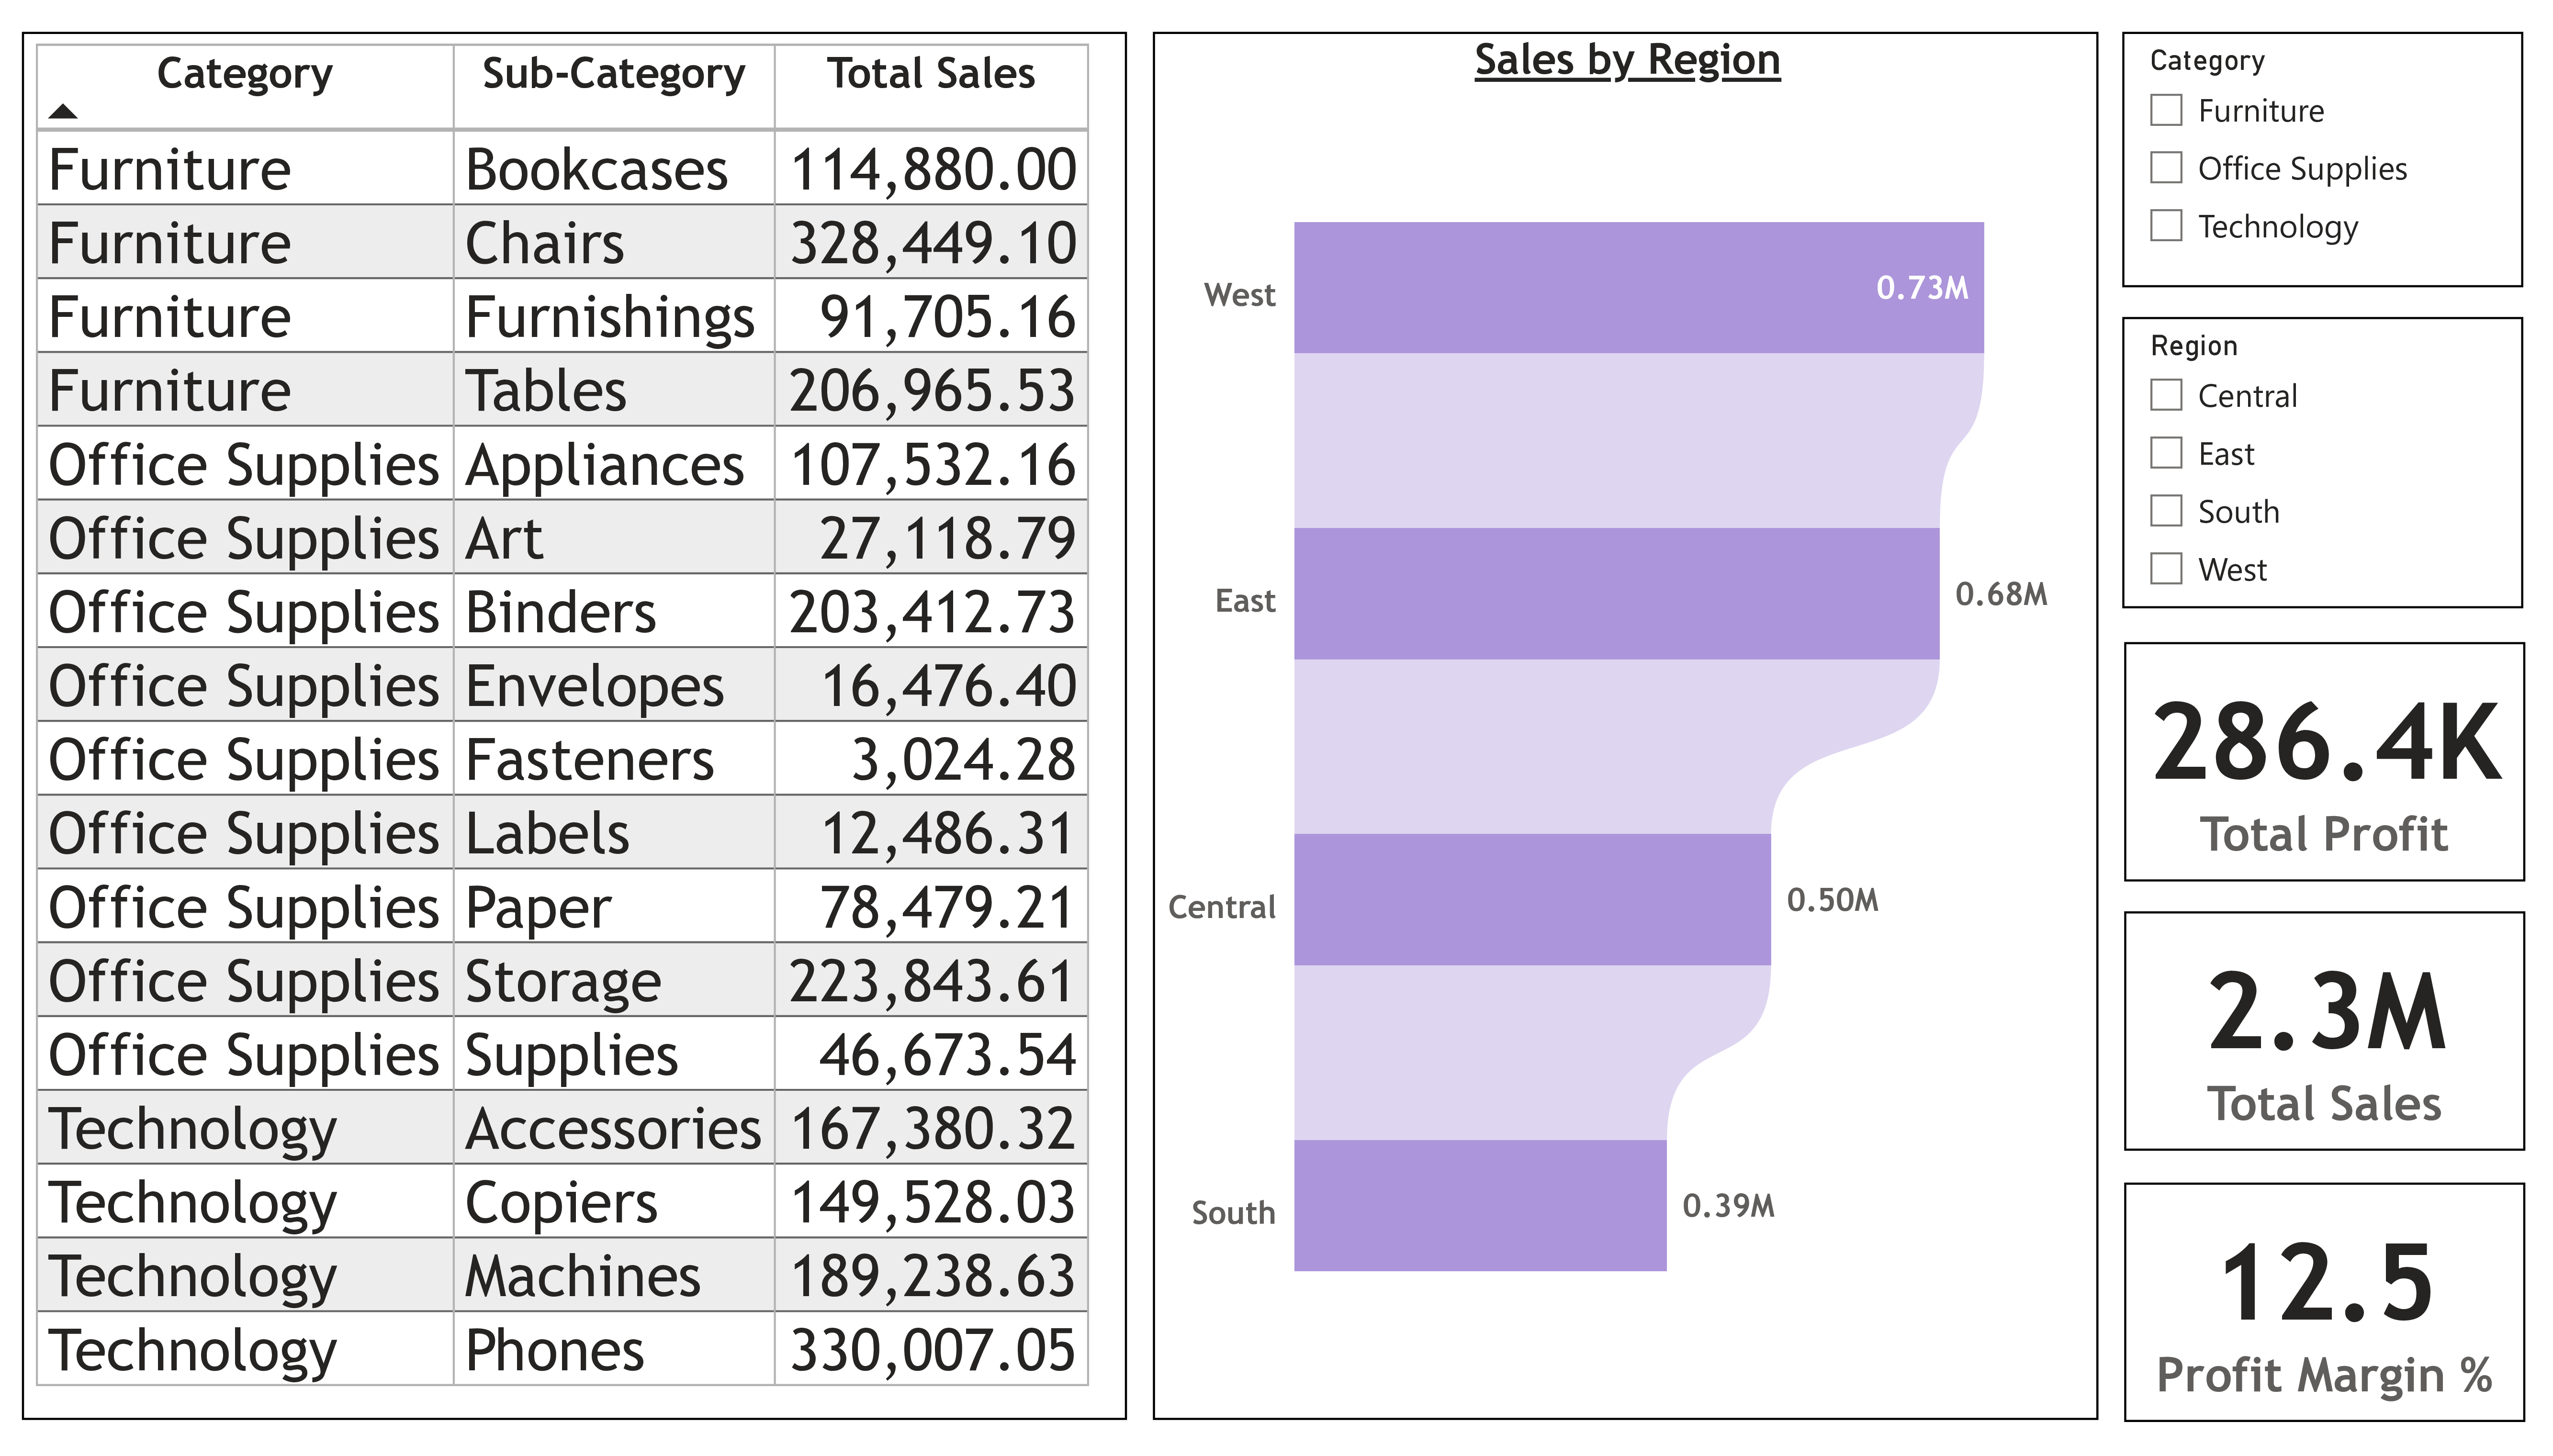

This screenshot's page, from the dashboard's own definition file:
{"tool":"powerbi","page":{"name":"Page 1","canvas":[1280,720],"ordinal":0},"visuals":[{"type":"card","fields":{"Values":["Measures Table.Total Sales"]},"box":[1065.5,451.8,200.8,119.8],"z":0},{"type":"card","fields":{"Values":["Measures Table.Total Profit"]},"box":[1065.5,317.4,200.8,119.8],"z":1000},{"type":"card","fields":{"Values":["Measures Table.Profit Margin %"]},"box":[1065.5,587.8,200.8,120],"z":2000},{"type":"barChart","title":"Sales by Region","fields":{"Category":["Orders.Region"],"Y":["Measures Table.Total Sales"]},"box":[578.1,11.3,474.4,696.3],"z":3000},{"type":"tableEx","fields":{"Values":["Orders.Category","Orders.Sub-Category","Measures Table.Total Sales"]},"box":[11.3,11.3,553.8,696.3],"z":4000},{"type":"slicer","fields":{"Values":["Orders.Region"]},"box":[1063.8,153.8,200.8,145.7],"z":5000},{"type":"slicer","fields":{"Values":["Orders.Category"]},"box":[1063.8,11.3,200.8,127.9],"z":6000}]}

Visuals, with their boxes in screenshot pixels (x1, y1, x2, y2), scaled from the page's 1280x720 canvas onto the 2553x1456 screenshot:
card - Measures Table.Total Sales: [x1=2125, y1=914, x2=2526, y2=1156]
card - Measures Table.Total Profit: [x1=2125, y1=642, x2=2526, y2=884]
card - Measures Table.Profit Margin %: [x1=2125, y1=1188, x2=2526, y2=1431]
"Sales by Region" barChart: [x1=1153, y1=23, x2=2099, y2=1431]
tableEx - Orders.Category x Orders.Sub-Category: [x1=22, y1=23, x2=1127, y2=1431]
slicer - Orders.Region: [x1=2122, y1=311, x2=2522, y2=605]
slicer - Orders.Category: [x1=2122, y1=23, x2=2522, y2=281]
